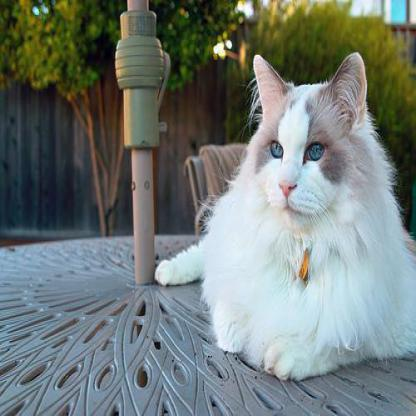cat: (155, 51, 415, 382)
